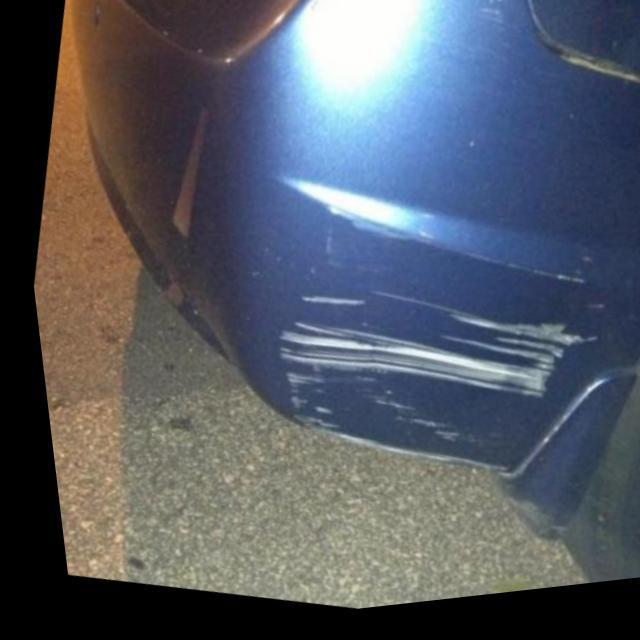rub: (266, 295, 578, 471)
